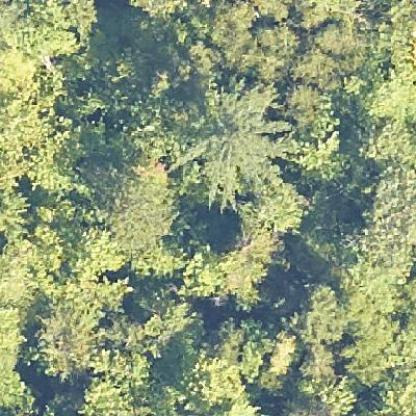tree-top: (177, 84, 279, 207), (280, 81, 352, 178), (178, 337, 250, 407), (34, 300, 98, 376), (289, 279, 349, 349), (72, 375, 157, 415)
